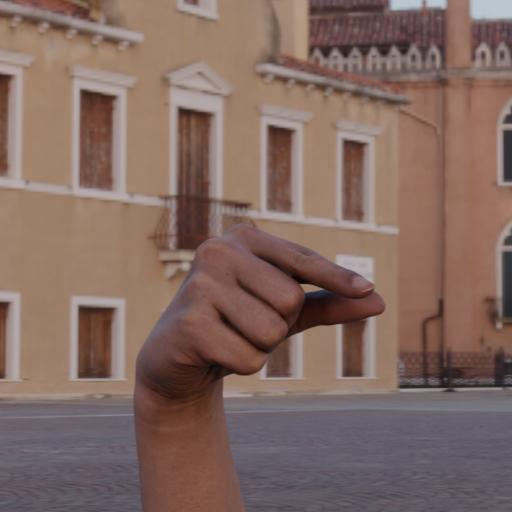G: (126, 212, 388, 422)
